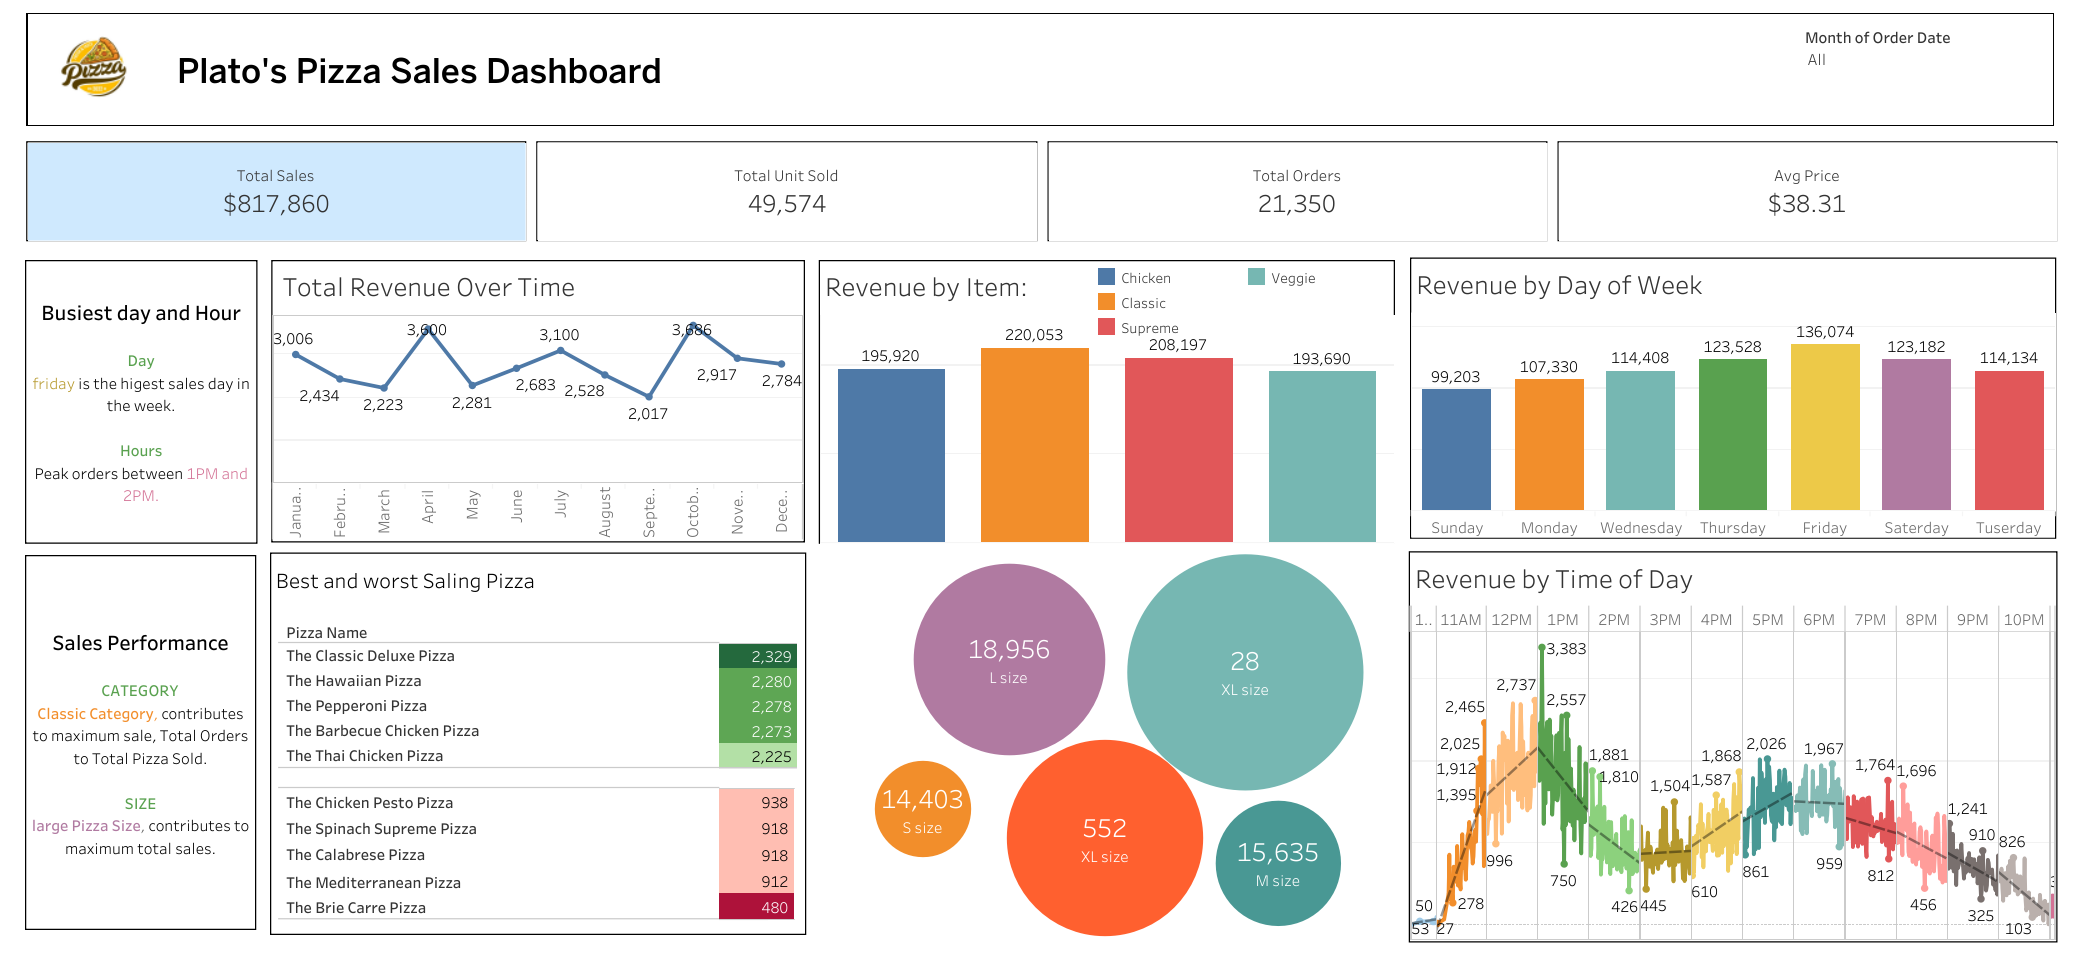

What the dashboard file says about the page in this screenshot:
{"tool":"tableau","page":{"name":"Dashboard 1","canvas":[1666,768],"ordinal":0},"visuals":[{"type":"blank","box":[20.7,10,1622.1,91]},{"type":"blank","box":[18.3,15,220.7,75]},{"type":"worksheet","title":"filter","mark":"Automatic","box":[1089.1,16,554.9,5]},{"type":"filter","title":"filter","param":"[federated.1elbuki0unevgo1fh1gp01b7omq8].[mn:order_date:ok]","box":[1444,19,195.1,66]},{"type":"text","box":[139,30,624.5,53]},{"type":"worksheet","title":"Total Sales","mark":"Automatic","box":[17.1,109,408.3,88]},{"type":"worksheet","title":"Total QTY","mark":"Automatic","box":[425.3,109,408.3,88]},{"type":"worksheet","title":"Total Orders","mark":"Automatic","box":[833.6,109,408.3,88]},{"type":"worksheet","title":"Avg price","mark":"Automatic","box":[1241.8,109,408.3,88]},{"type":"worksheet","title":"Revenue by Day of Week","mark":"Automatic","rows":["total_price"],"cols":["Calculation_573364546321862668"],"box":[1128,206,517,225]},{"type":"text","box":[20,208,186,227]},{"type":"worksheet","title":" Total Revenue Over Time","mark":"Automatic","rows":["total_price"],"cols":["order_date","order_date"],"box":[217,208,427,226]},{"type":"worksheet","title":"Revenue by Item:","mark":"Automatic","rows":["total_price"],"cols":["pizza_category"],"box":[655,208,461,227]},{"type":"legend","title":"Revenue by Item:","param":"[federated.1elbuki0unevgo1fh1gp01b7omq8].[none:pizza_category:nk]","box":[875,211,255,65]},{"type":"worksheet","title":"L size pizza","mark":"Circle","box":[622,399,370,256]},{"type":"worksheet","title":"XXL size pizza","mark":"Circle","box":[828,420,337,234]},{"type":"worksheet","title":"Revenue by Time of Day","mark":"Automatic","rows":["total_price"],"cols":["Calculation_573364545675161602","order_time","order_time"],"box":[1127,441,519,313]},{"type":"blank","box":[216,442,429,306]},{"type":"text","box":[20,444,185,300]},{"type":"text","box":[218,445,421,37]},{"type":"worksheet","title":"Best Saler","mark":"Square","rows":["pizza_name"],"box":[223,494,415,121]},{"type":"worksheet","title":"S size pizza","mark":"Circle","box":[588,528,299,238]},{"type":"worksheet","title":"Worst saler","mark":"Square","rows":["pizza_name"],"box":[223,630,413,107]}]}

Visuals, with their boxes in screenshot pixels (x1, y1, x2, y2), scaled from the page's 1666x768 canvas onto the 2081x959 screenshot:
blank: locate(26, 12, 2052, 126)
blank: locate(23, 19, 299, 112)
"filter" worksheet: locate(1360, 20, 2054, 26)
"filter" filter: locate(1804, 24, 2047, 106)
text: locate(174, 37, 954, 104)
"Total Sales" worksheet: locate(21, 136, 531, 246)
"Total QTY" worksheet: locate(531, 136, 1041, 246)
"Total Orders" worksheet: locate(1041, 136, 1551, 246)
"Avg price" worksheet: locate(1551, 136, 2061, 246)
"Revenue by Day of Week" worksheet: locate(1409, 257, 2055, 538)
text: locate(25, 260, 257, 543)
" Total Revenue Over Time" worksheet: locate(271, 260, 804, 542)
"Revenue by Item:" worksheet: locate(818, 260, 1394, 543)
"Revenue by Item:" legend: locate(1093, 263, 1411, 345)
"L size pizza" worksheet (Circle marks): locate(777, 498, 1239, 818)
"XXL size pizza" worksheet (Circle marks): locate(1034, 524, 1455, 817)
"Revenue by Time of Day" worksheet: locate(1408, 551, 2056, 942)
blank: locate(270, 552, 806, 934)
text: locate(25, 554, 256, 929)
text: locate(272, 556, 798, 602)
"Best Saler" worksheet (Square marks): locate(279, 617, 797, 768)
"S size pizza" worksheet (Circle marks): locate(734, 659, 1108, 957)
"Worst saler" worksheet (Square marks): locate(279, 787, 794, 920)
